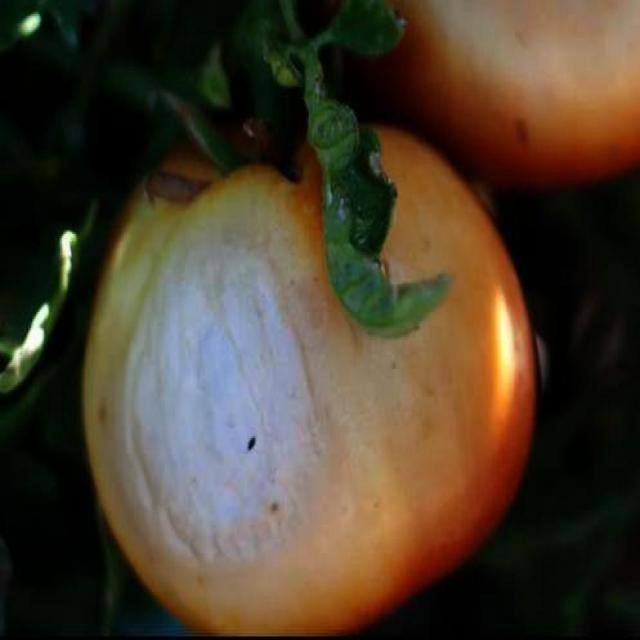Sunscald Fruit: (164, 46, 328, 276)
